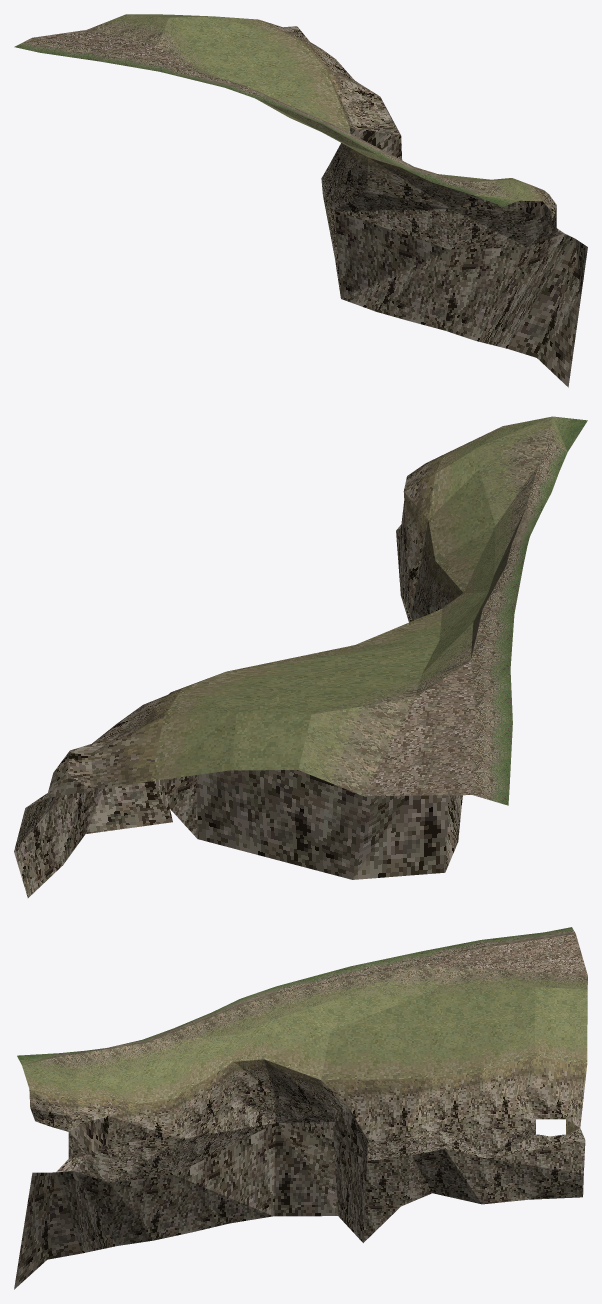
The model's file is lodcehollyhil16.obj.
3 renders of one model, top to bottom at view 1: azimuth 30°, elevation 25°; view 2: azimuth 150°, elevation 25°; view 3: azimuth 270°, elevation 25°, orthographic. The views are drawn at different scales.
Visible parts, largest first — view 1: LODCEhollyhil16; view 2: LODCEhollyhil16; view 3: LODCEhollyhil16.
Part boxes in pixels (left/top/right/bottom): LODCEhollyhil16: left=14, top=14, right=587, bottom=387; LODCEhollyhil16: left=14, top=416, right=587, bottom=897; LODCEhollyhil16: left=14, top=927, right=587, bottom=1289.
Size of the model in its own units: 180 by 123 by 276.
Materials: 8 (8 with a texture image).
